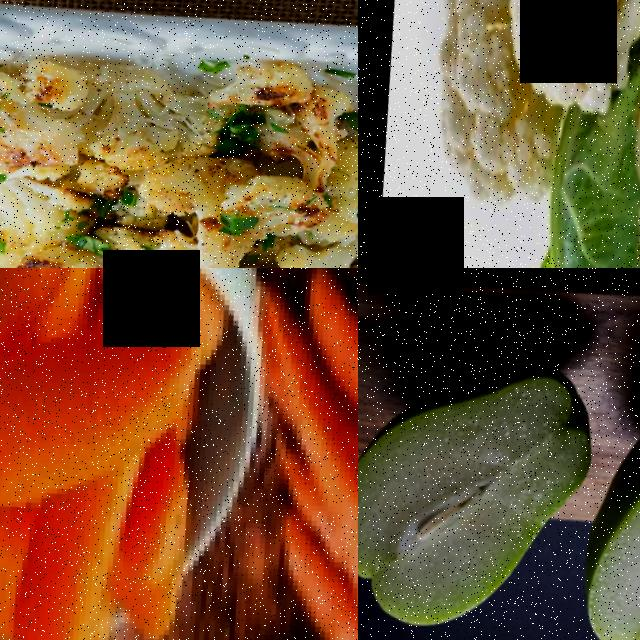cauliflower: (398, 0, 543, 253), (528, 0, 640, 268), (501, 0, 640, 144)
chayote: (358, 312, 600, 640), (533, 303, 640, 640)
